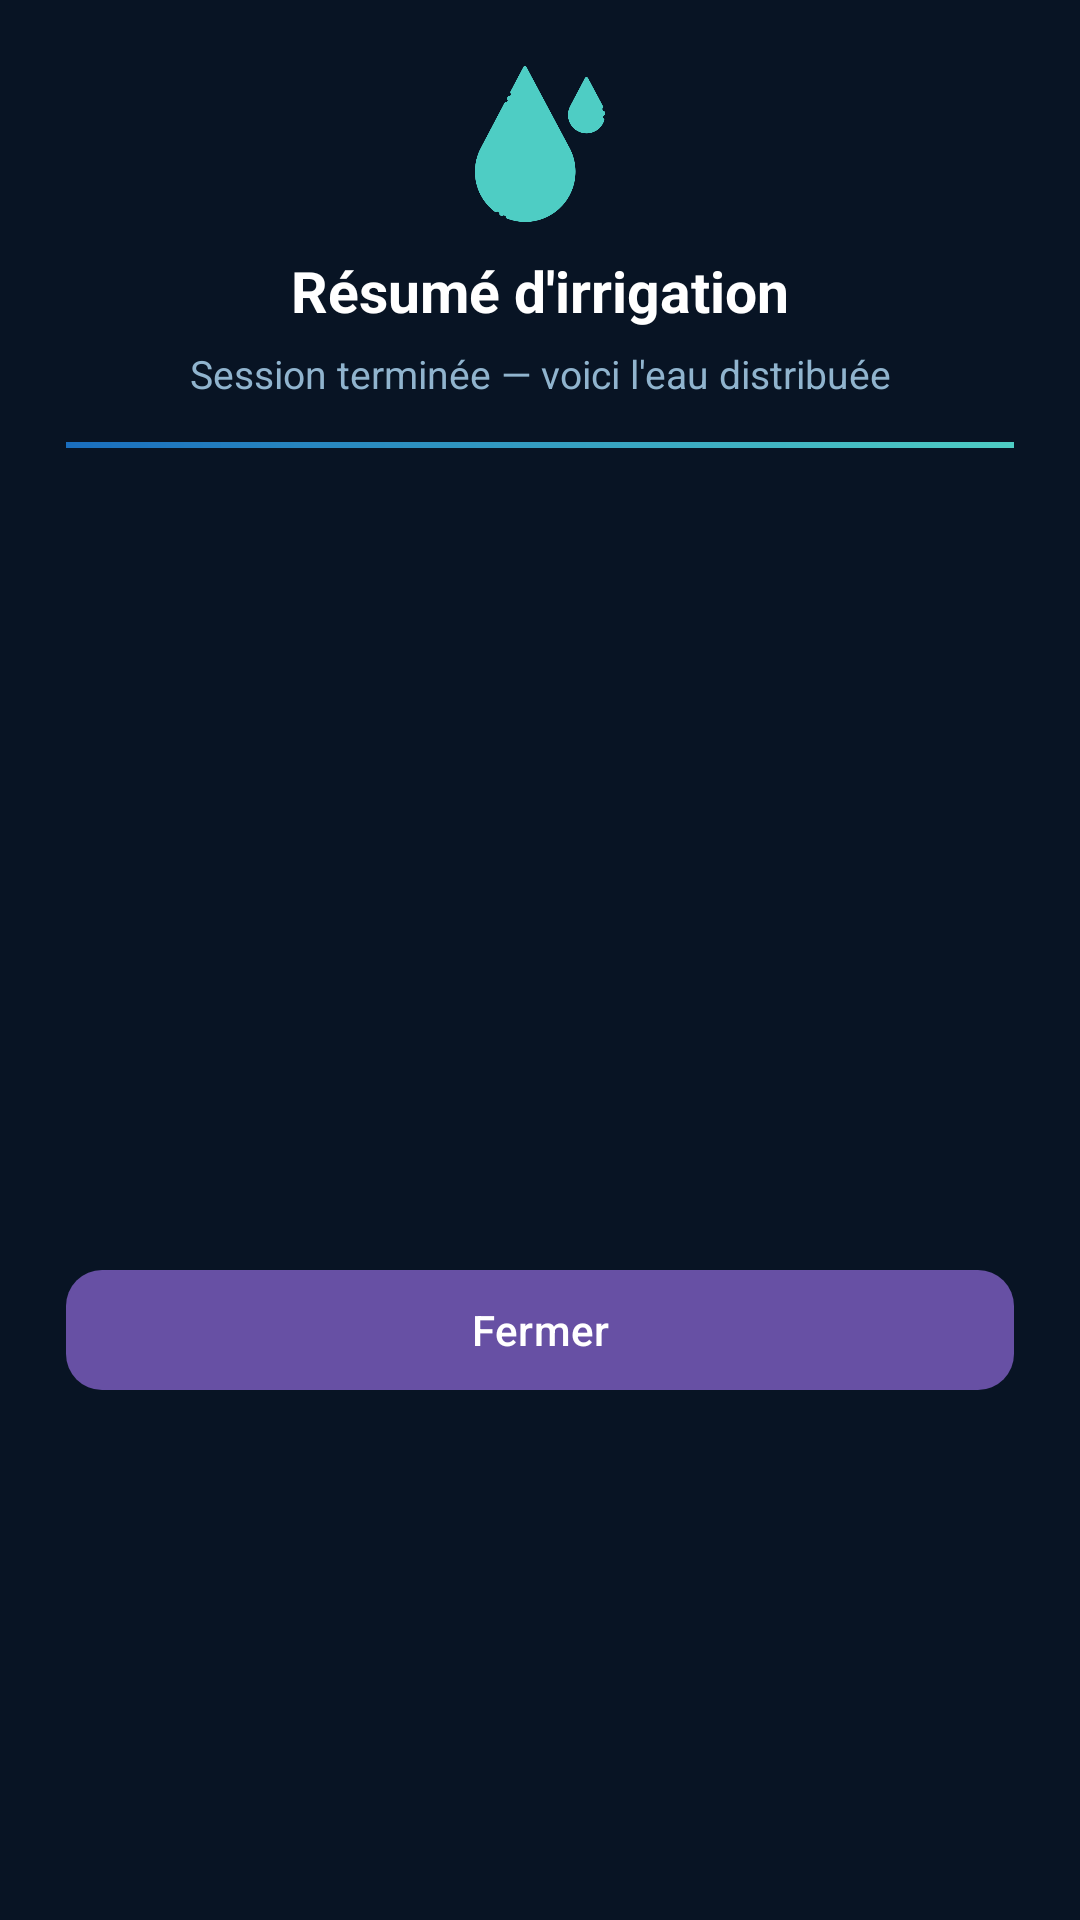

Named icons in this screenshot (1080px x 1920px) and their bounding boxes, (x1, y1, x2, y2):
water drop: (475, 66, 605, 222)
